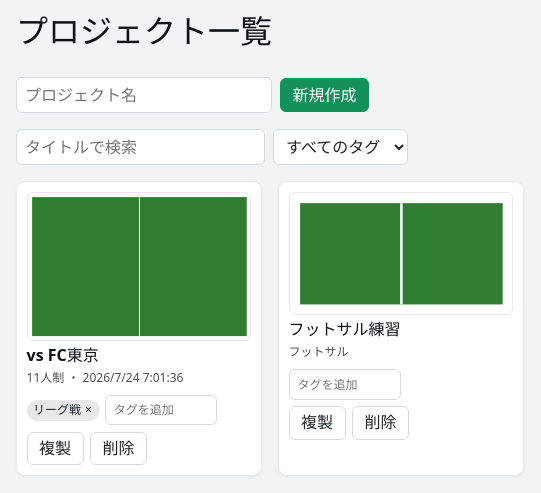
ProjectListPage › タグで絞り込める
Expected: the text "vs FC東京" is shown, [27, 345, 99, 366]
Select "リーグ戦" in the dropdown named "タグで絞り込み" at (340, 147), box [273, 129, 408, 165]
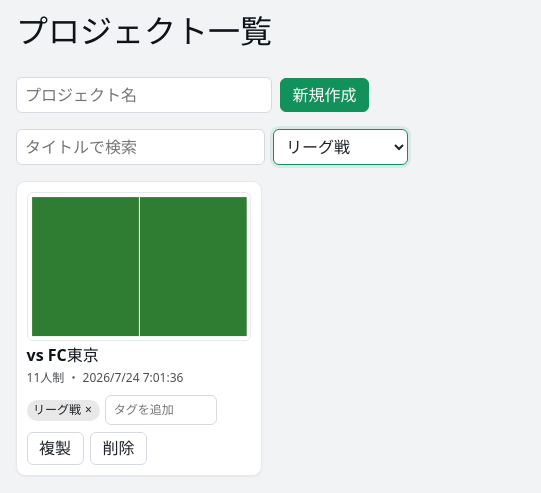
Expected: the text "vs FC東京" is shown, [27, 345, 99, 366]
Now the button "フットサル練習" is gone
